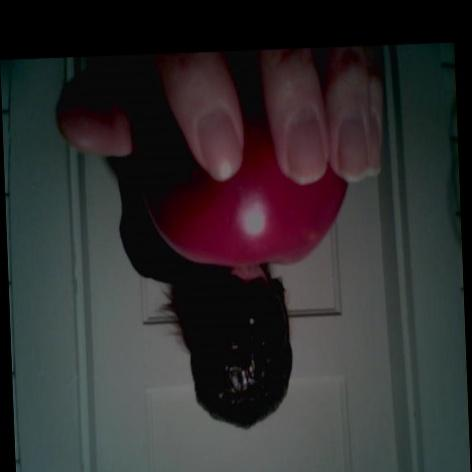red apple: (143, 116, 364, 268)
